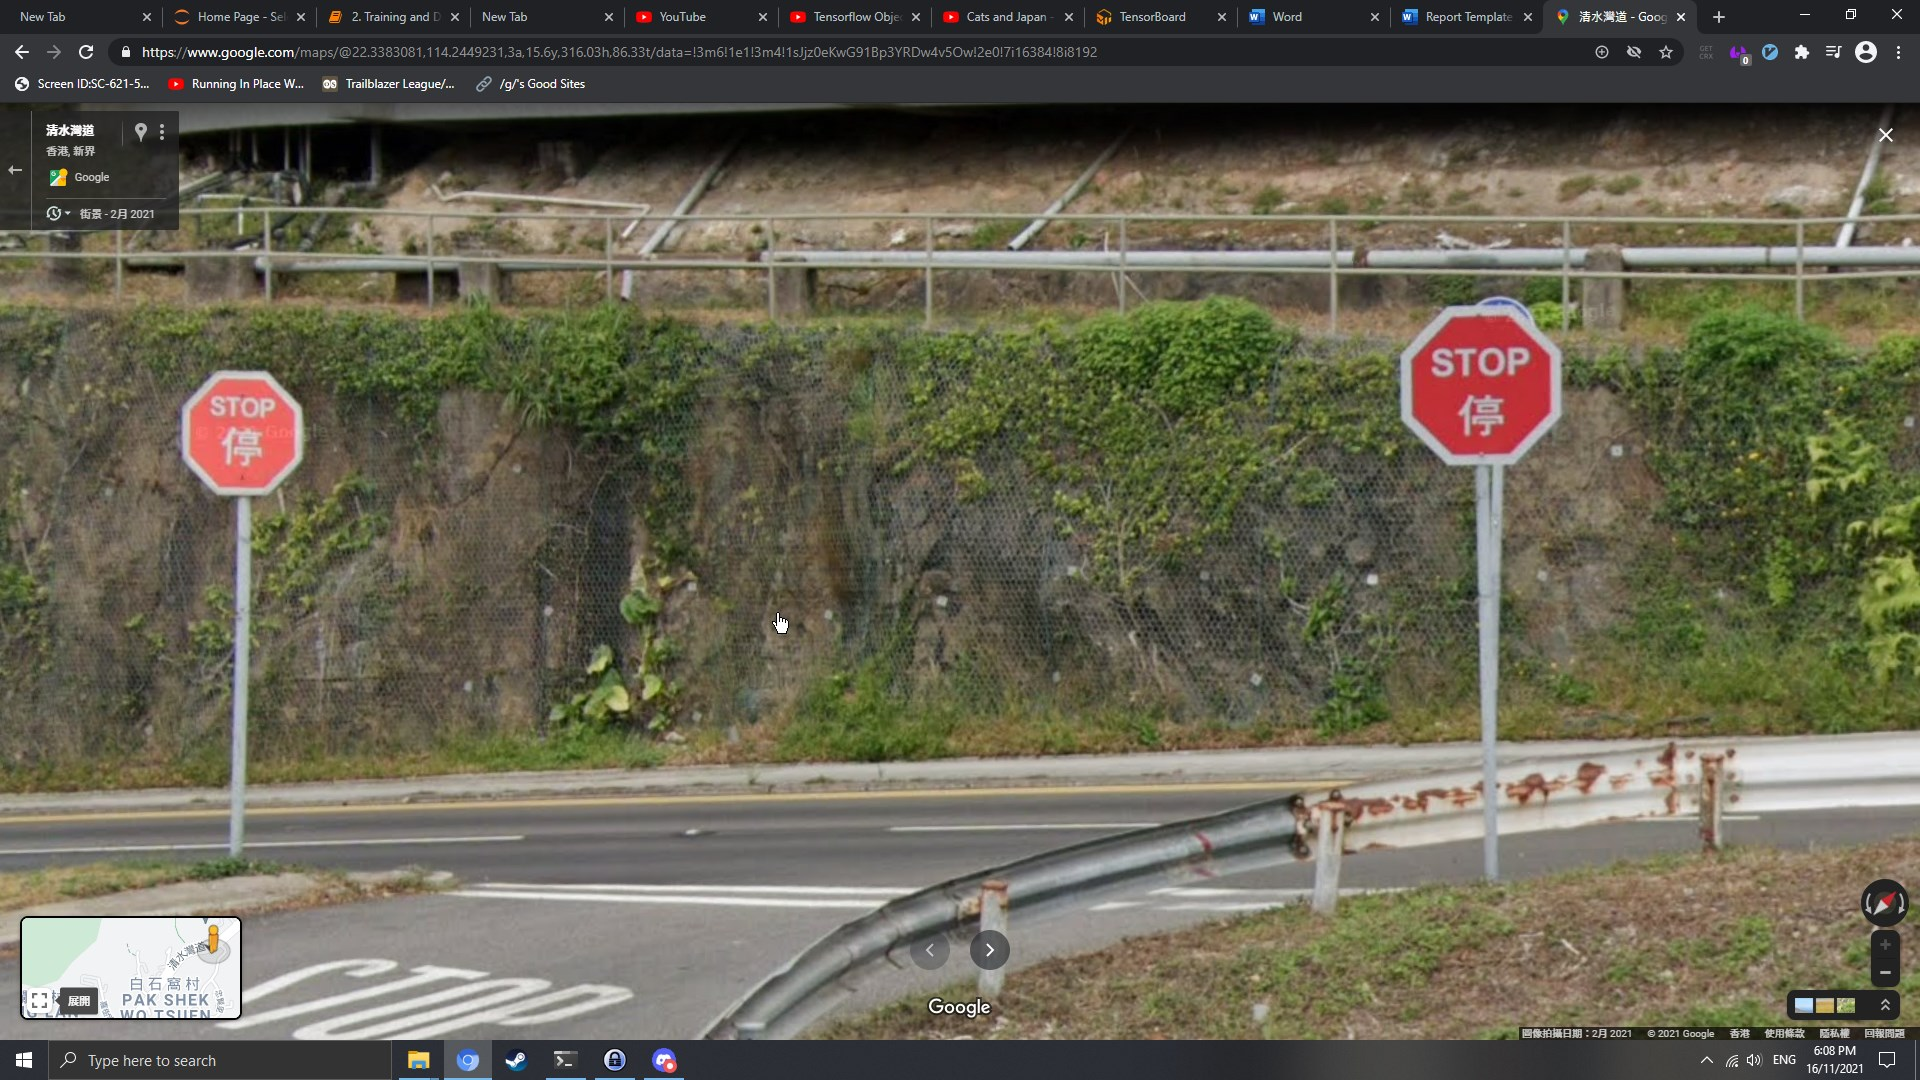Stop: (1400, 306, 1563, 467), (179, 371, 305, 496)
